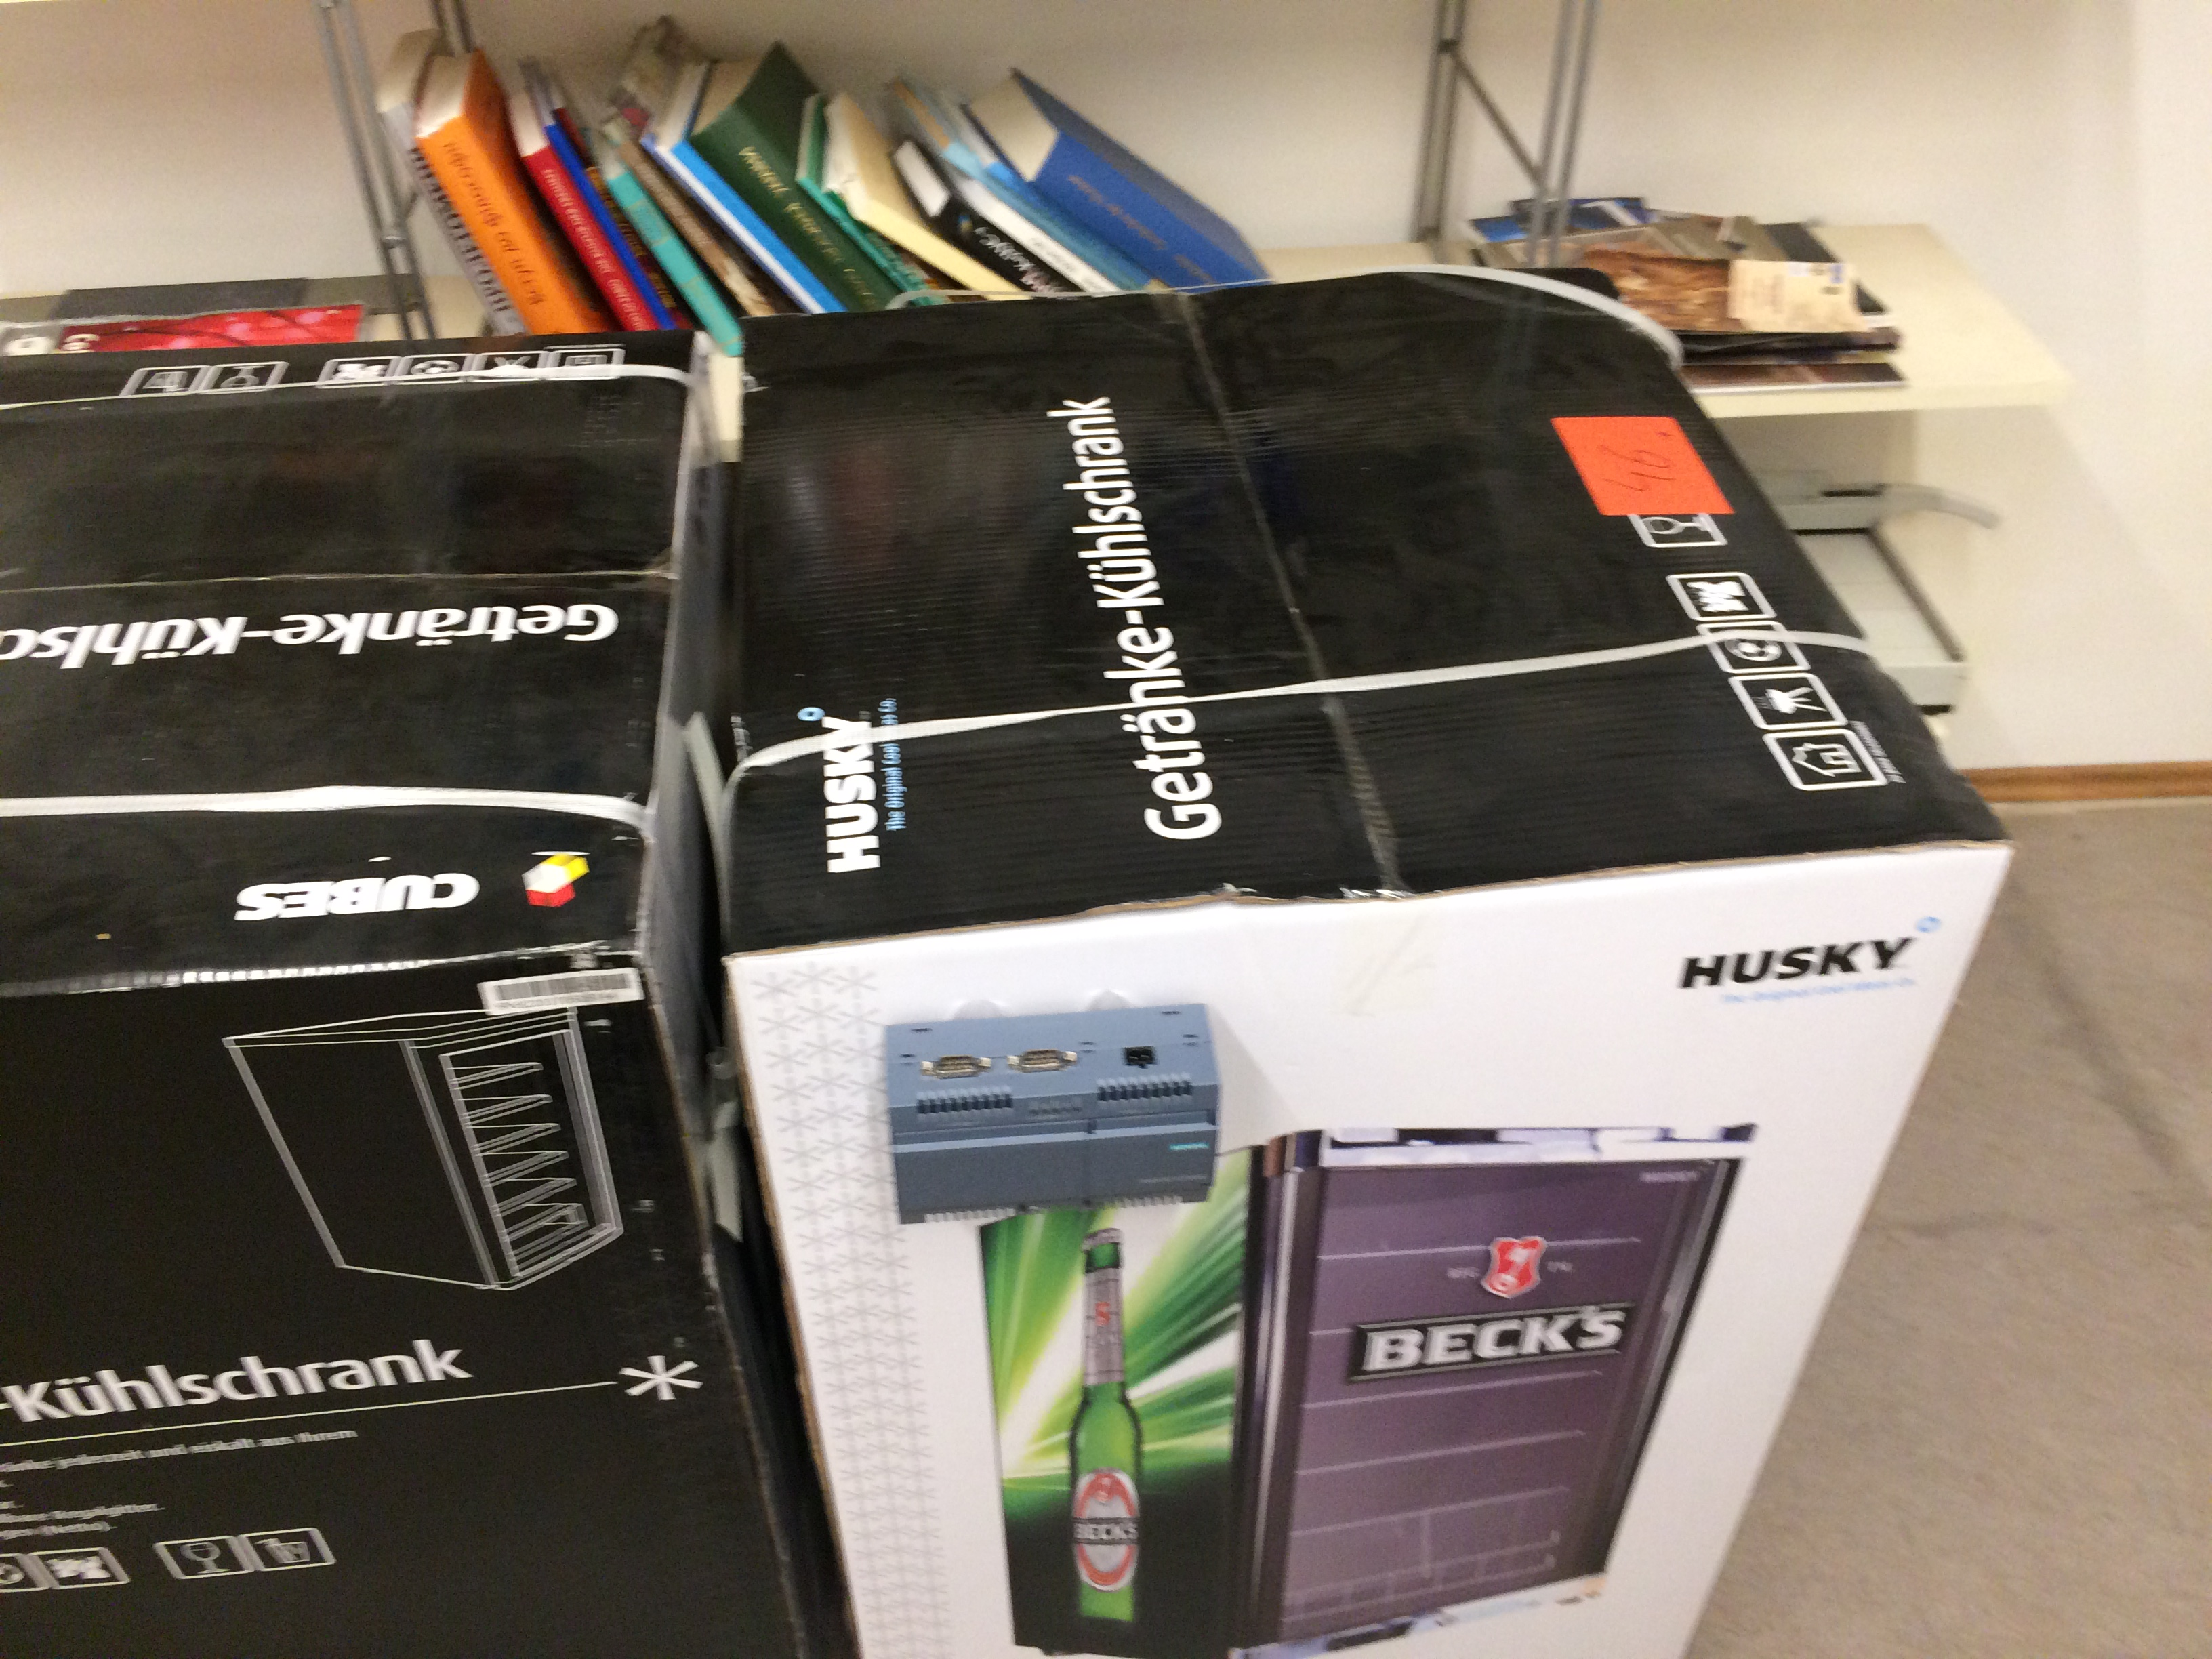iot2000: (883, 1000, 1224, 1227)
